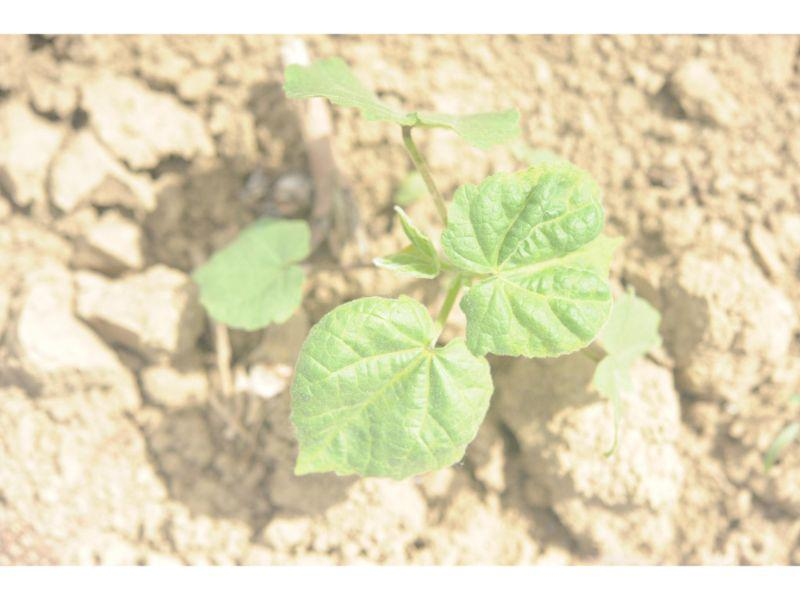velvet: (197, 57, 616, 482)
